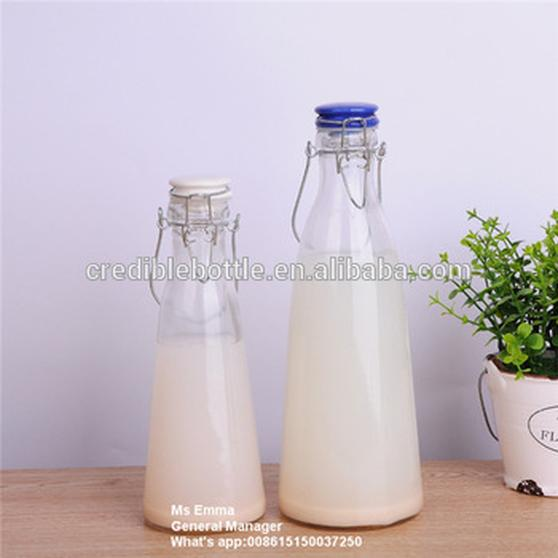milk: (146, 321, 268, 529)
